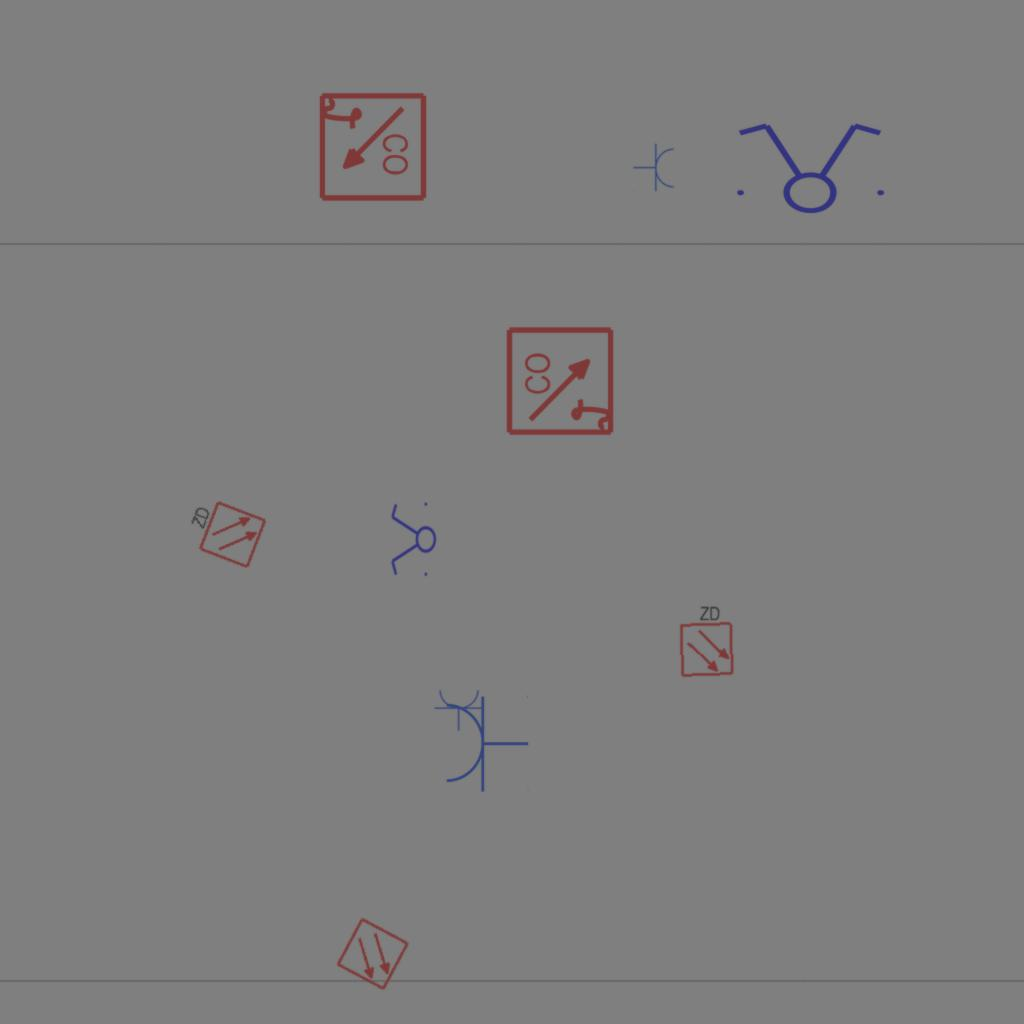RMO_Rauchmelder_optischer: (335, 916, 411, 992)
ROA_Rauchmelder_optisch_mit_Signalgeber_(Sockelsirene): (315, 91, 428, 204), (505, 324, 618, 437)
Schukosteckdose_einfach: (442, 693, 529, 793), (633, 143, 676, 193), (434, 688, 484, 731)
Serienschalter: (725, 119, 893, 215), (389, 498, 437, 582)
ZD_Melder_in_Zwischendecke_mit_Revisionsoeffnung_mind_40_x_40_cm: (178, 492, 269, 572), (675, 602, 736, 678)
